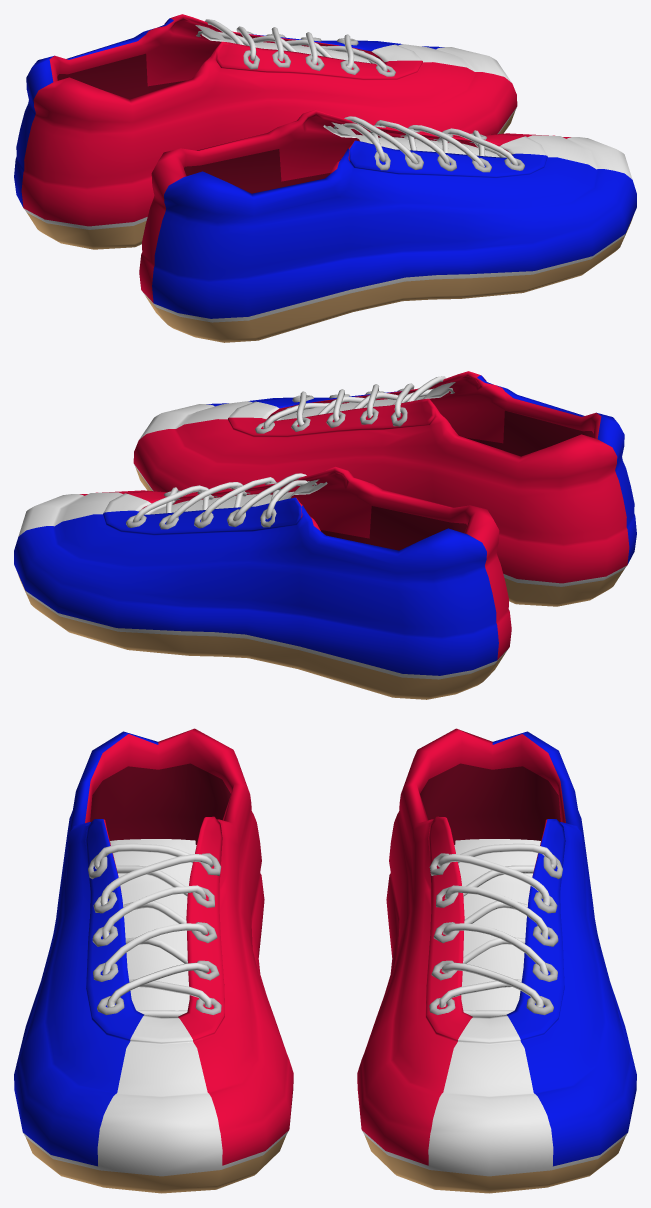
File: ShoesBowling.fbx
The picture shows the model from 3 angles, top to bottom: view 1: azimuth 30°, elevation 25°; view 2: azimuth 150°, elevation 25°; view 3: azimuth 270°, elevation 25°; orthographic projection. The views are drawn at different scales.
Visible parts, largest first — view 1: Shoes.R, Shoes.L; view 2: Shoes.L, Shoes.R; view 3: Shoes.R, Shoes.L.
Part boxes in pixels (x1,y1,x2,y2): Shoes.R: (139, 109, 636, 342); Shoes.L: (14, 14, 517, 249); Shoes.L: (14, 466, 511, 699); Shoes.R: (133, 371, 636, 606); Shoes.R: (14, 728, 293, 1193); Shoes.L: (357, 728, 636, 1193).
Size of the model in its own units: 3912 by 1327 by 3436.
